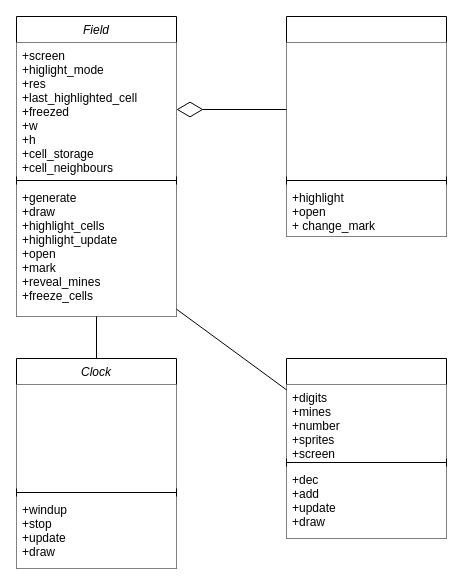
This 463x585 diagram has some shape labels left out. The box of each missing label's shape, as (x1, y1, x2, y2) in pixels:
+ticking +screen +counter +digits +limit +sprites +start: (16, 384, 176, 488)
+x +y +mined +adj_mines +clickable +opened +mark +freezed +image: (286, 42, 446, 176)
Cell: (286, 16, 446, 236)
Counter: (286, 358, 446, 538)
